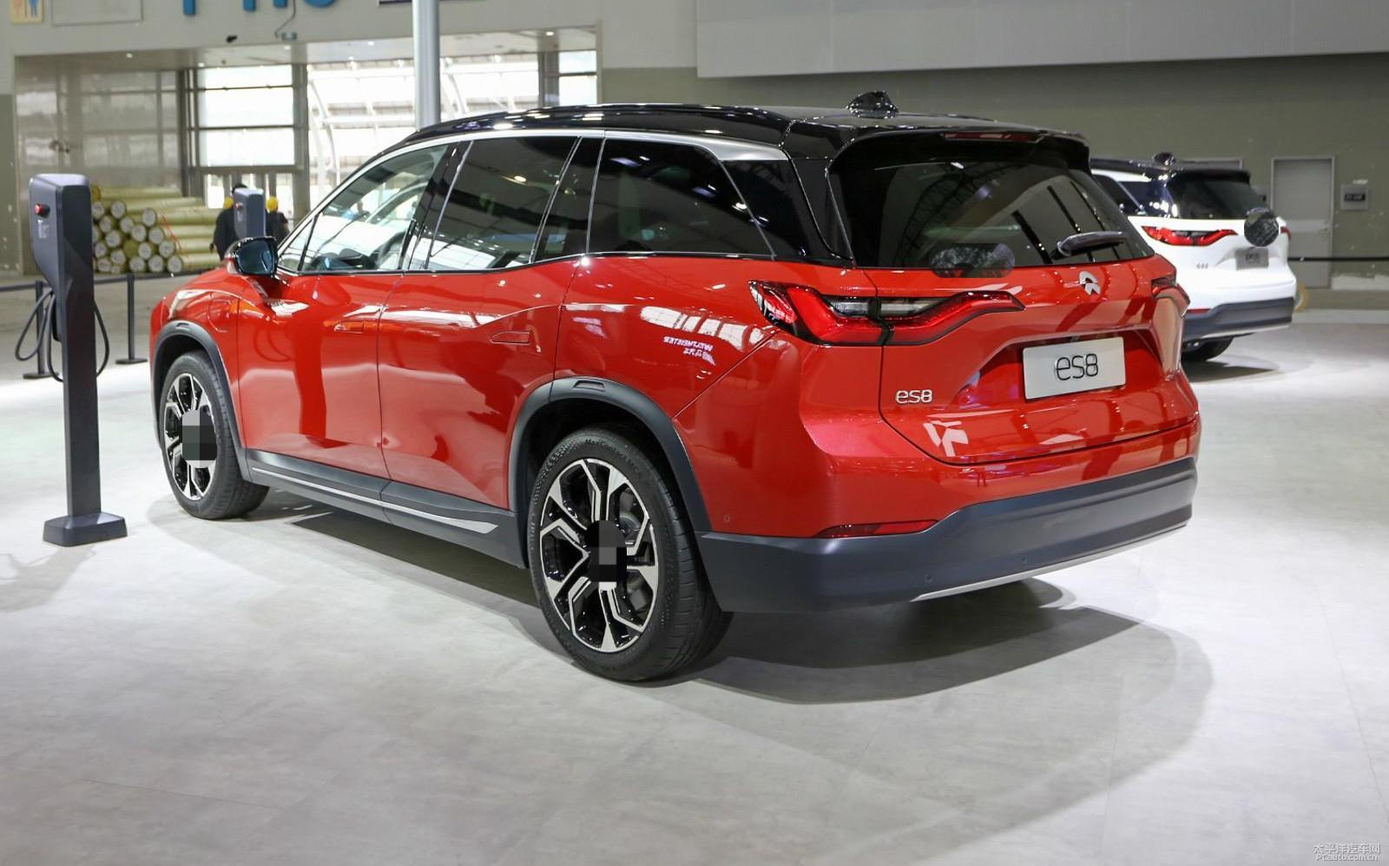NIO: (1079, 270, 1101, 295)
